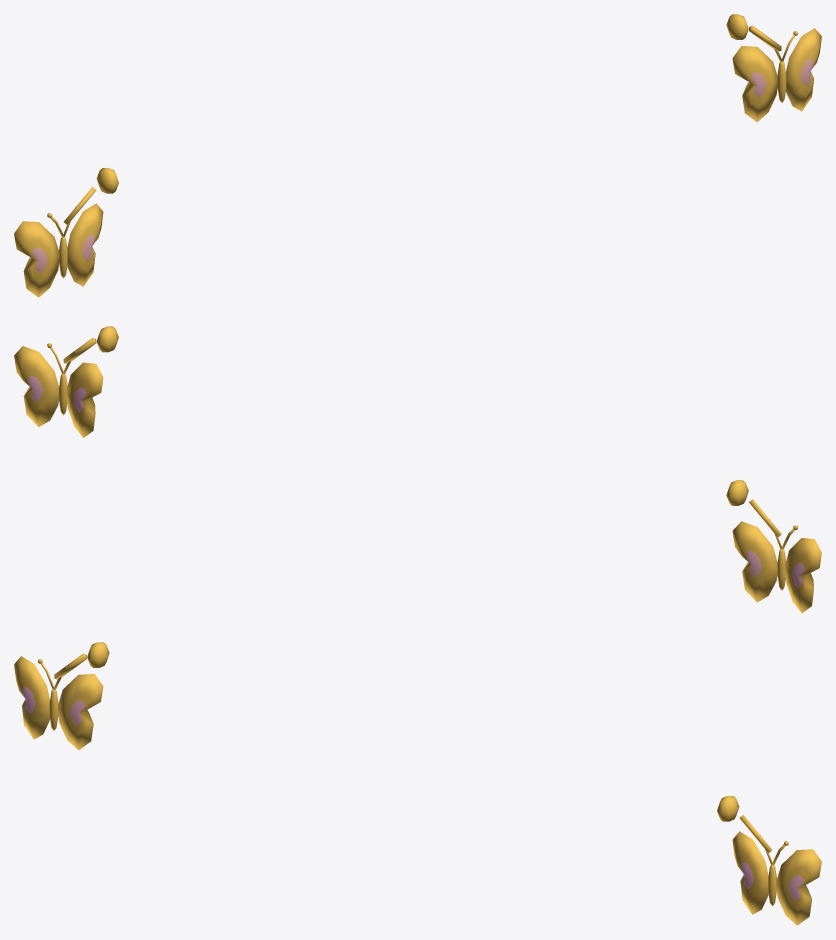
The model's file is butterfly_earrings.glb.
3 views of the same model, one above another, from view 1: azimuth 30°, elevation 25°; view 2: azimuth 150°, elevation 25°; view 3: azimuth 330°, elevation 25° (orthographic).
Parts seen in each view (by area): view 1: butterfly_earrings; view 2: butterfly_earrings; view 3: butterfly_earrings.
Boxes of the visible parts, box(x1,y1,x2,y2) form: butterfly_earrings: box(14, 14, 821, 297); butterfly_earrings: box(14, 326, 821, 613); butterfly_earrings: box(14, 642, 821, 925).
Size of the model in its own units: 0.2632 by 0.0359 by 0.00812.
